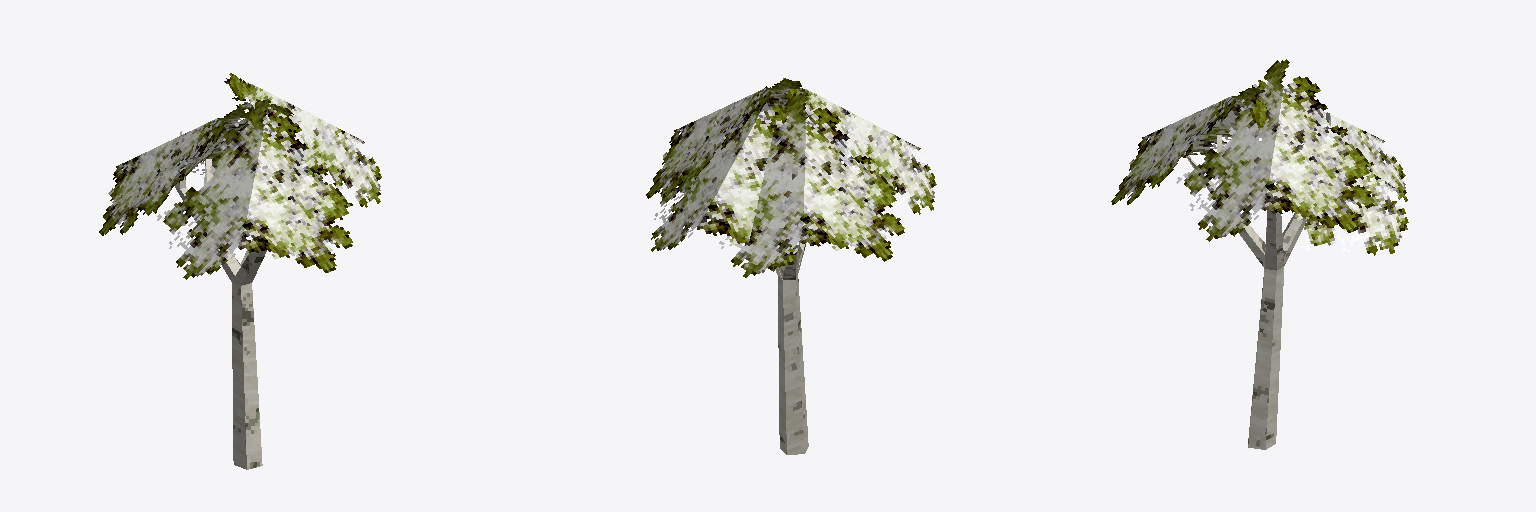
3 renders of one model, left to right at view 1: azimuth 30°, elevation 25°; view 2: azimuth 150°, elevation 25°; view 3: azimuth 270°, elevation 25°, orthographic.
Visible parts, largest first — view 1: birchsno_1; view 2: birchsno_1; view 3: birchsno_1.
Boxes of the visible parts, x1=… form: birchsno_1: x1=99, y1=73, x2=381, y2=469; birchsno_1: x1=646, y1=78, x2=936, y2=454; birchsno_1: x1=1111, y1=59, x2=1408, y2=449.
Bounding box in the file's own units: 3.72 × 4.48 × 3.83.
2 materials, 2 textured.